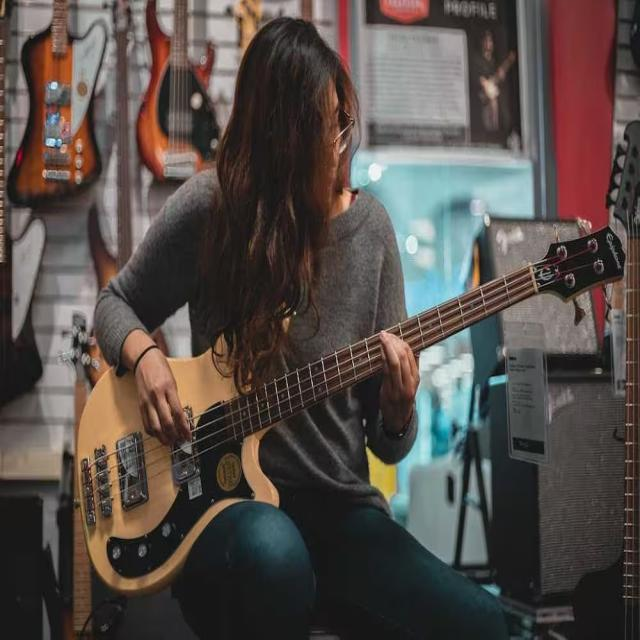bass: (75, 333, 383, 595), (573, 122, 639, 639), (385, 226, 625, 354), (136, 0, 220, 180)
